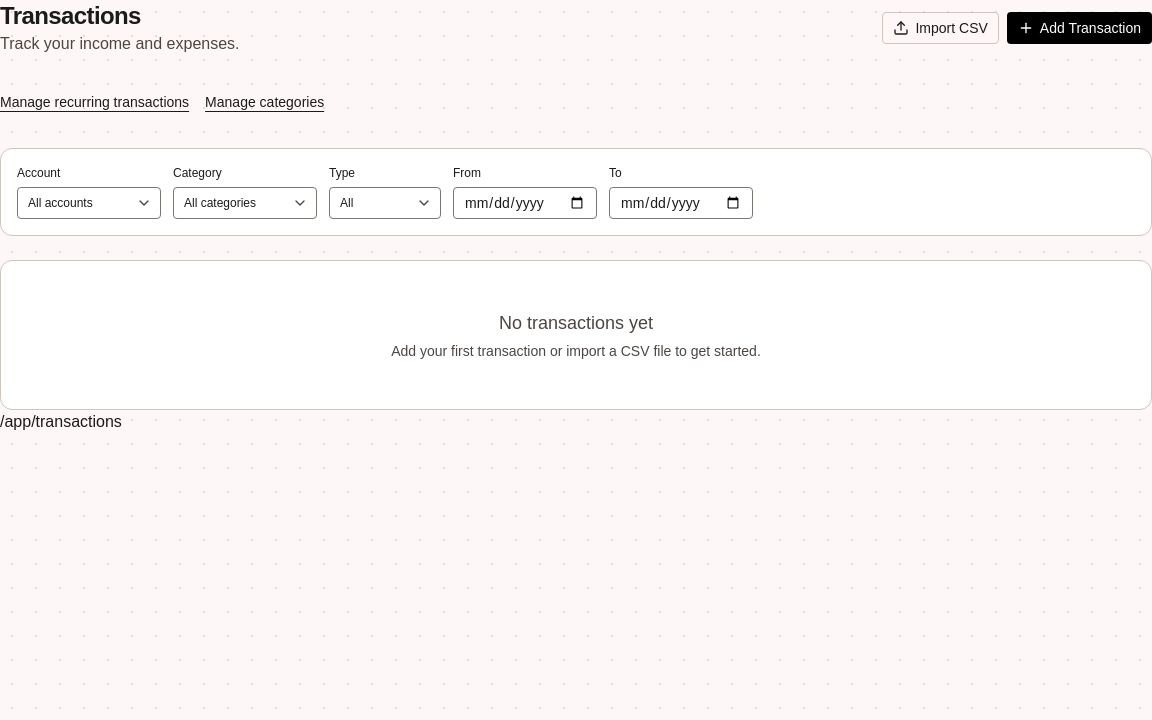
Test case: Transactions Page › mounts and opens the add transaction dialog
Expected: the heading "Transactions" is shown, [0,2,141,29]
Click the button "Add Transaction" at (1079, 28), box [1007,12,1151,44]
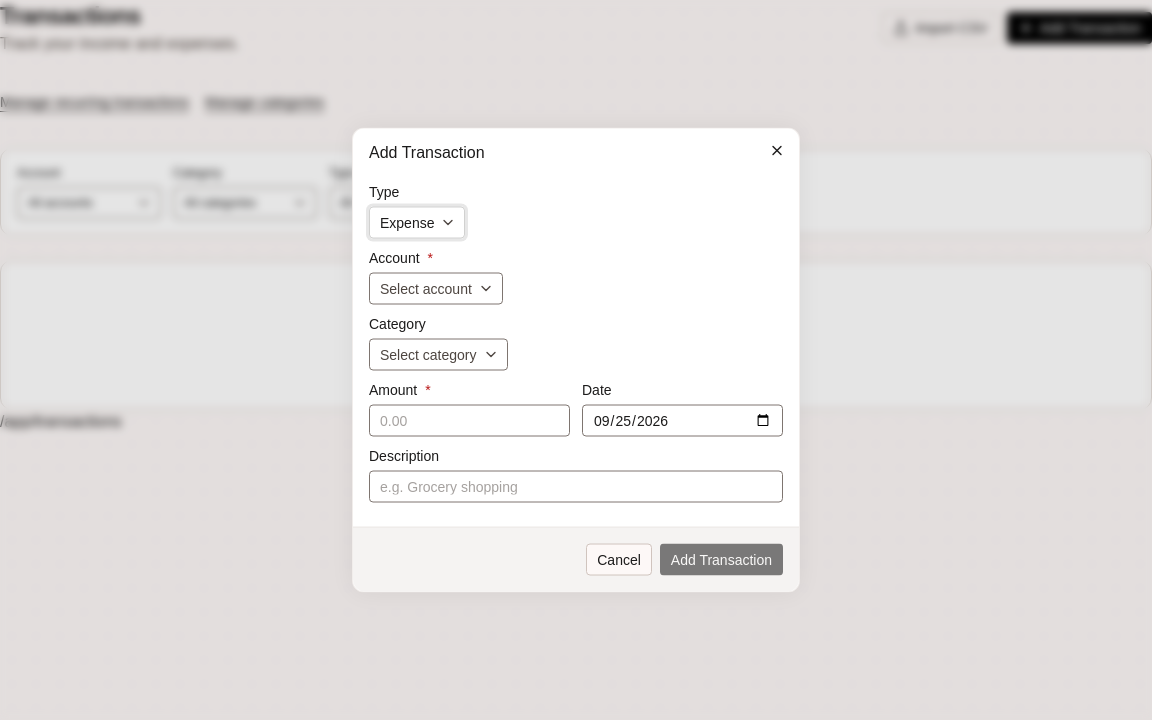
Expected: the number field labelled "Amount *" is shown, [369,404,570,436]
